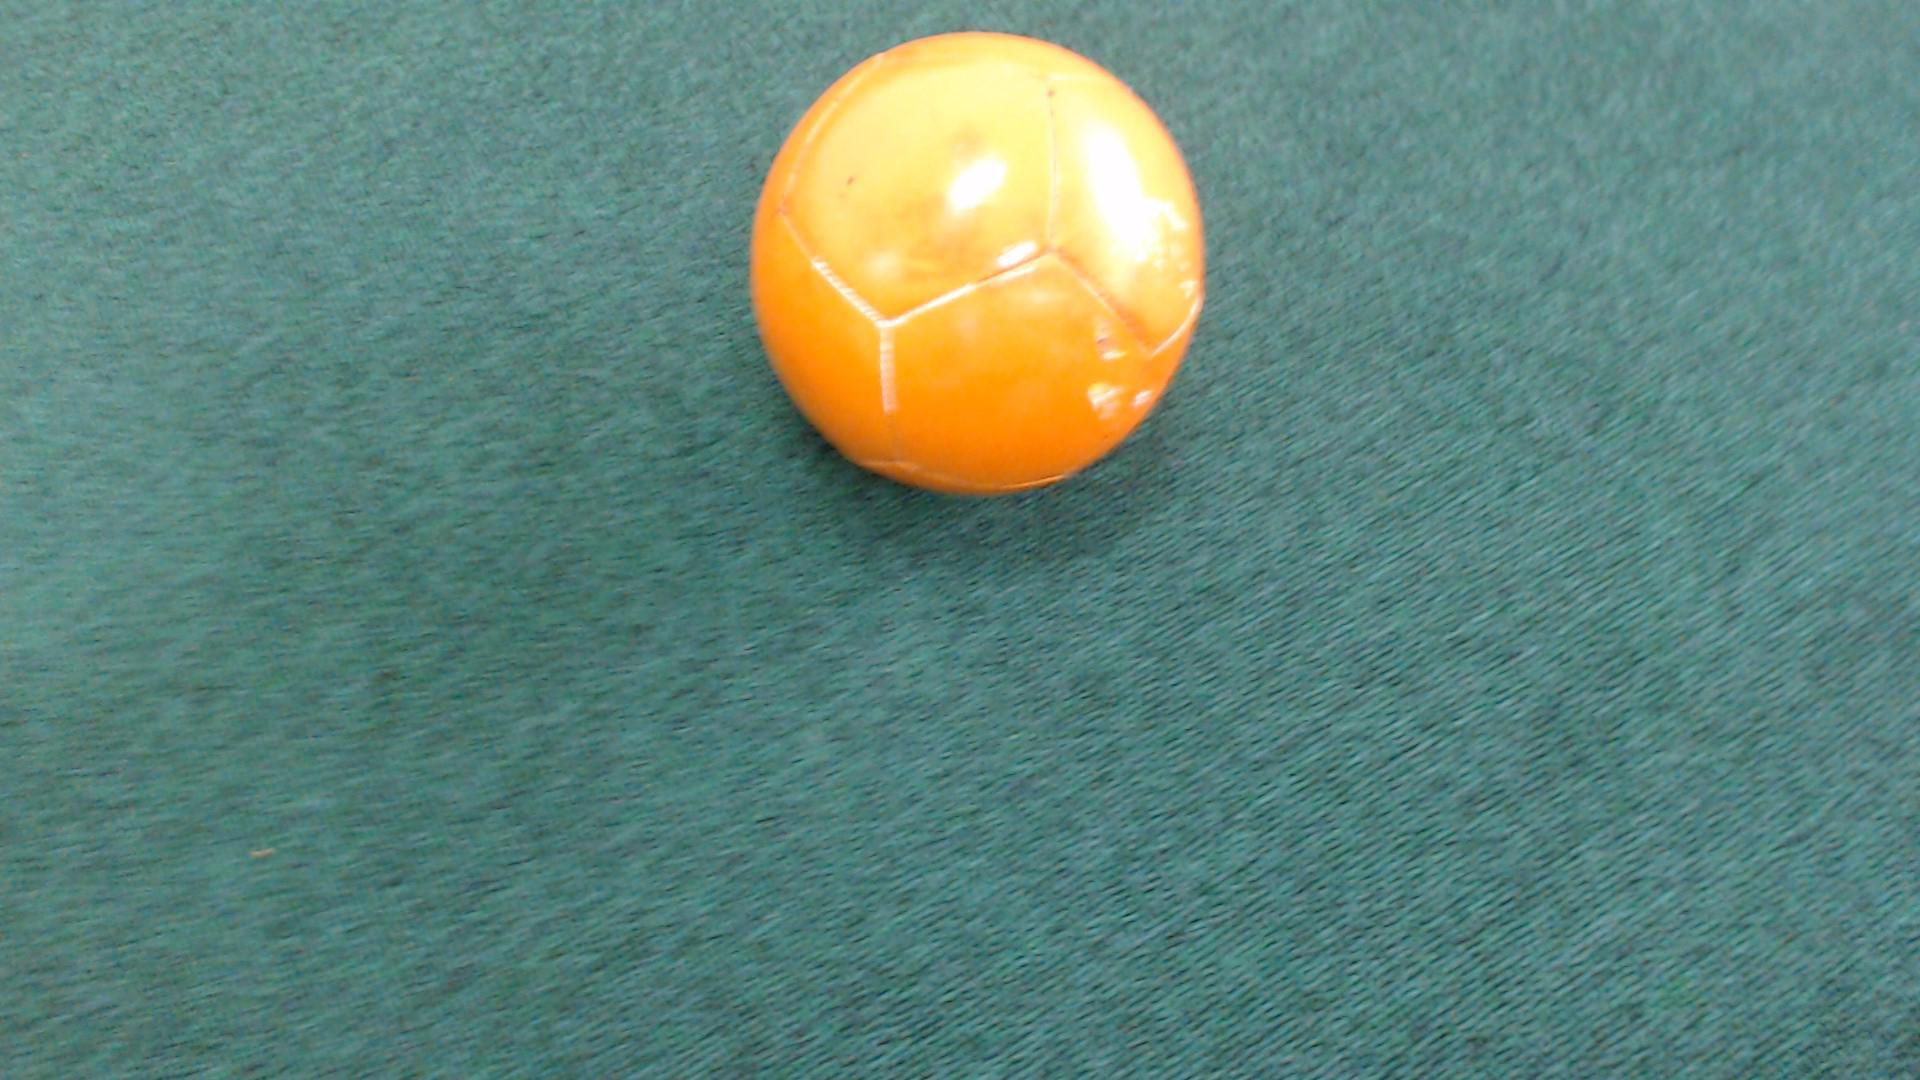bola: (721, 22, 1242, 510)
